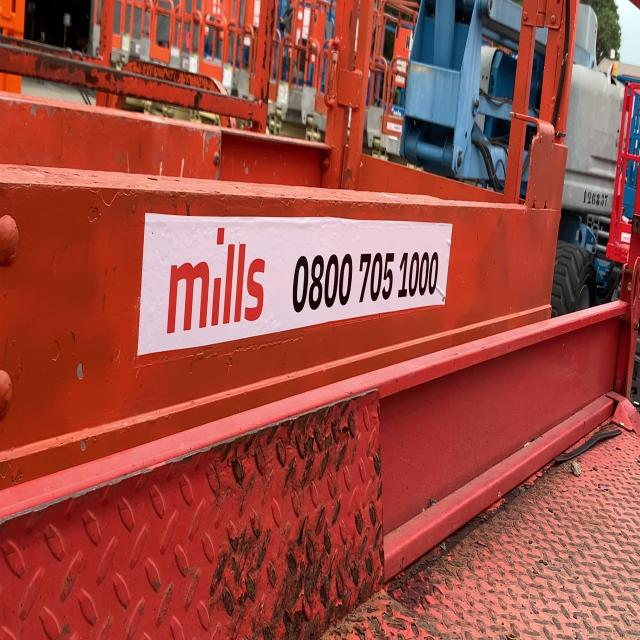Adesivo Longo: (134, 208, 456, 360)
